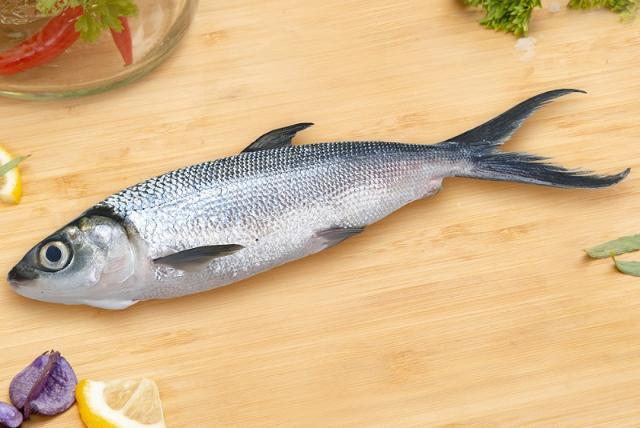Mulut: (1, 247, 62, 321)
Sirip Dada: (144, 228, 256, 288)
Sirip Ekor: (432, 74, 638, 214)
Sirip Perut: (296, 209, 374, 261)
Sirip Punggung: (226, 110, 320, 172)
